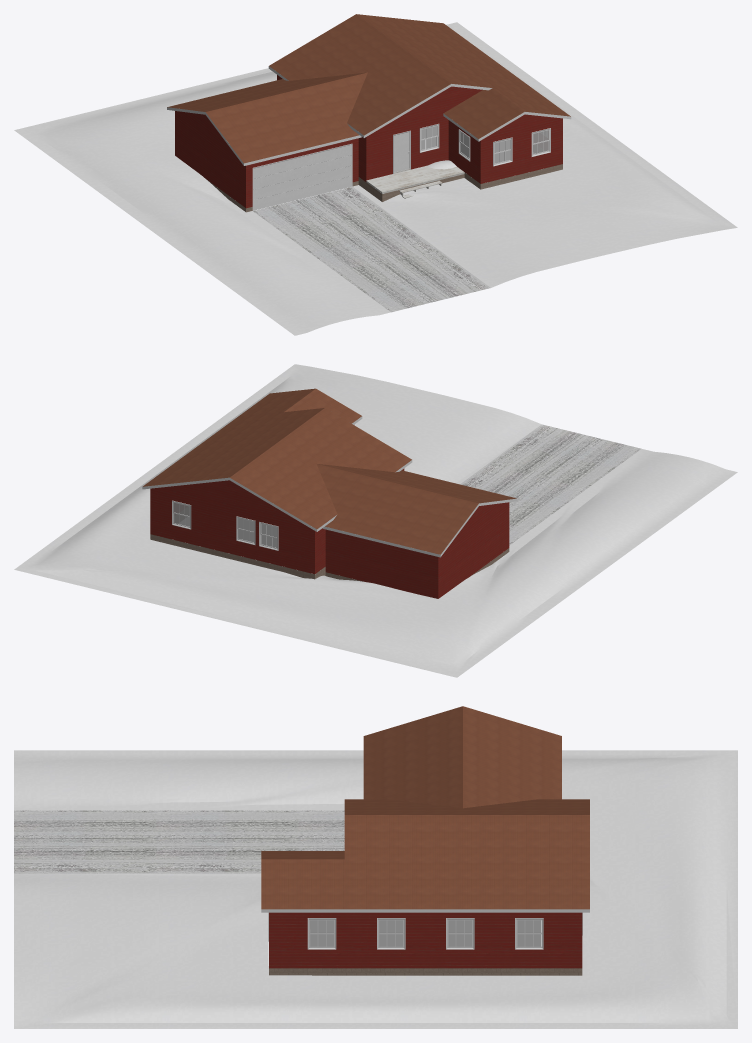
File: ranch_red.glb
The picture shows the model from 3 angles, top to bottom: view 1: azimuth 30°, elevation 25°; view 2: azimuth 150°, elevation 25°; view 3: azimuth 270°, elevation 25°; orthographic projection. The views are drawn at different scales.
Visible parts, largest first — view 1: Material2 (×8); view 2: Material2 (×7); view 3: Material2 (×7).
Boxes of the visible parts, x1,y1,x2,y2 form: Material2 (×8): [14, 14, 737, 335]; Material2 (×7): [14, 364, 737, 677]; Material2 (×7): [14, 706, 737, 1028].
Size of the model in its own units: 1037 by 198 by 1139.
12 materials, 7 textured.
